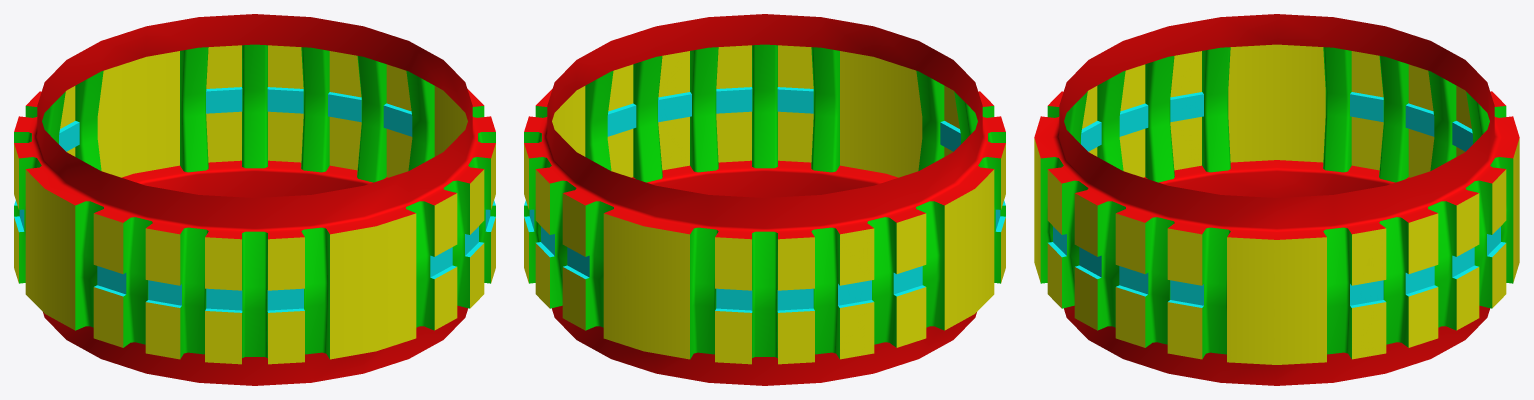
Rendered from Tunnel_Lift_P2.fbx.
The picture shows the model from 3 angles, left to right: view 1: azimuth 30°, elevation 25°; view 2: azimuth 150°, elevation 25°; view 3: azimuth 270°, elevation 25°; orthographic projection.
Parts seen in each view (by area): view 1: Tunnel_Lift_P2; view 2: Tunnel_Lift_P2; view 3: Tunnel_Lift_P2.
Boxes of the visible parts, box(x1,y1,x2,y2) form: Tunnel_Lift_P2: box(14, 14, 495, 385); Tunnel_Lift_P2: box(524, 14, 1005, 385); Tunnel_Lift_P2: box(1034, 14, 1519, 385).
Size of the model in its own units: 1416 by 605 by 1416.
